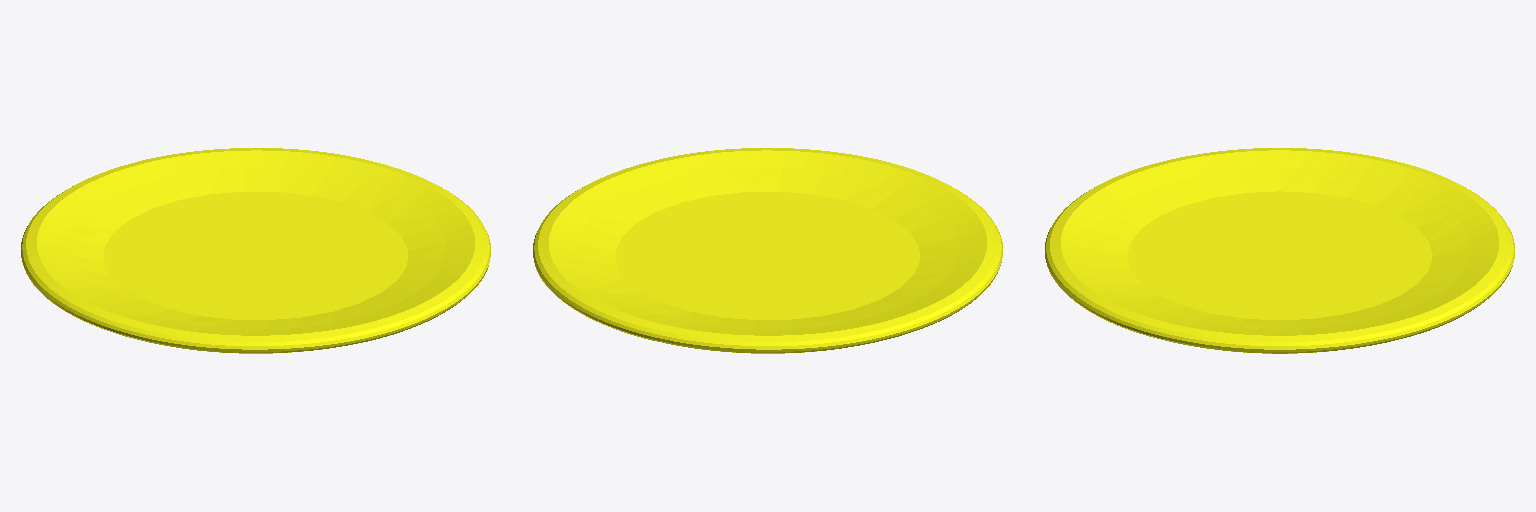
File: plate2.obj
The picture shows the model from 3 angles: view 1: azimuth 30°, elevation 25°; view 2: azimuth 150°, elevation 25°; view 3: azimuth 270°, elevation 25°; orthographic projection.
Parts seen in each view (by area): view 1: nurbsToPoly1; view 2: nurbsToPoly1; view 3: nurbsToPoly1.
Part boxes in pixels (x1,y1,x2,y2): nurbsToPoly1: (21, 148, 490, 353); nurbsToPoly1: (533, 148, 1002, 353); nurbsToPoly1: (1045, 148, 1514, 353).
Bounding box in the file's own units: 18.81 × 1.14 × 18.81.